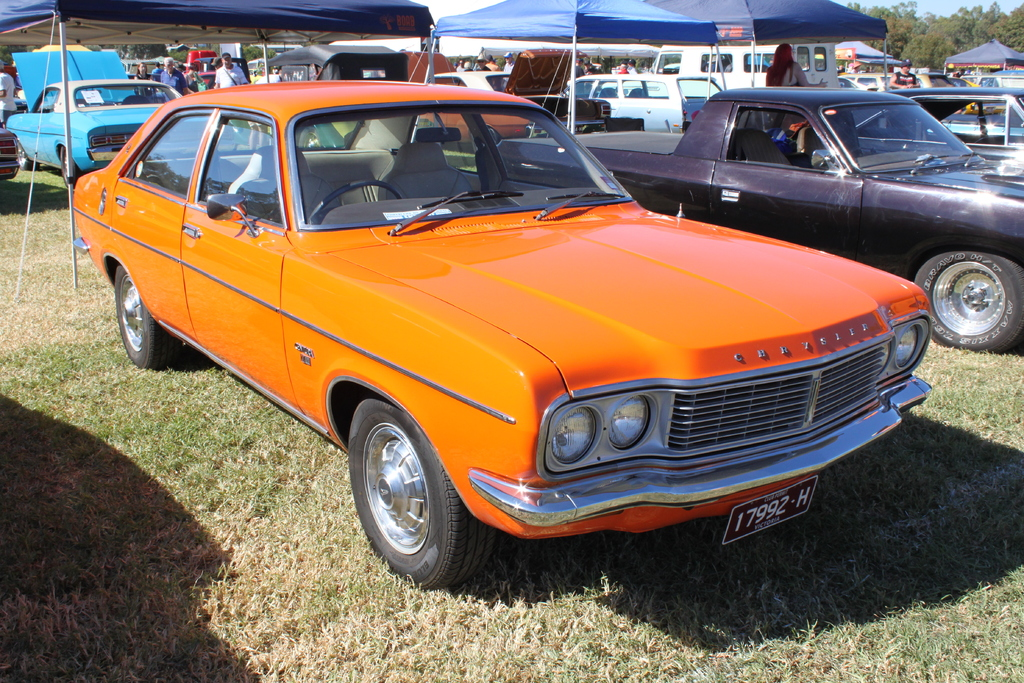mobil: (58, 71, 954, 574)
